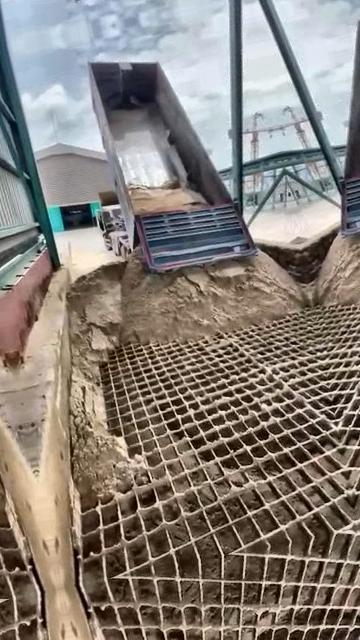sand: (68, 250, 304, 505), (129, 184, 207, 214)
